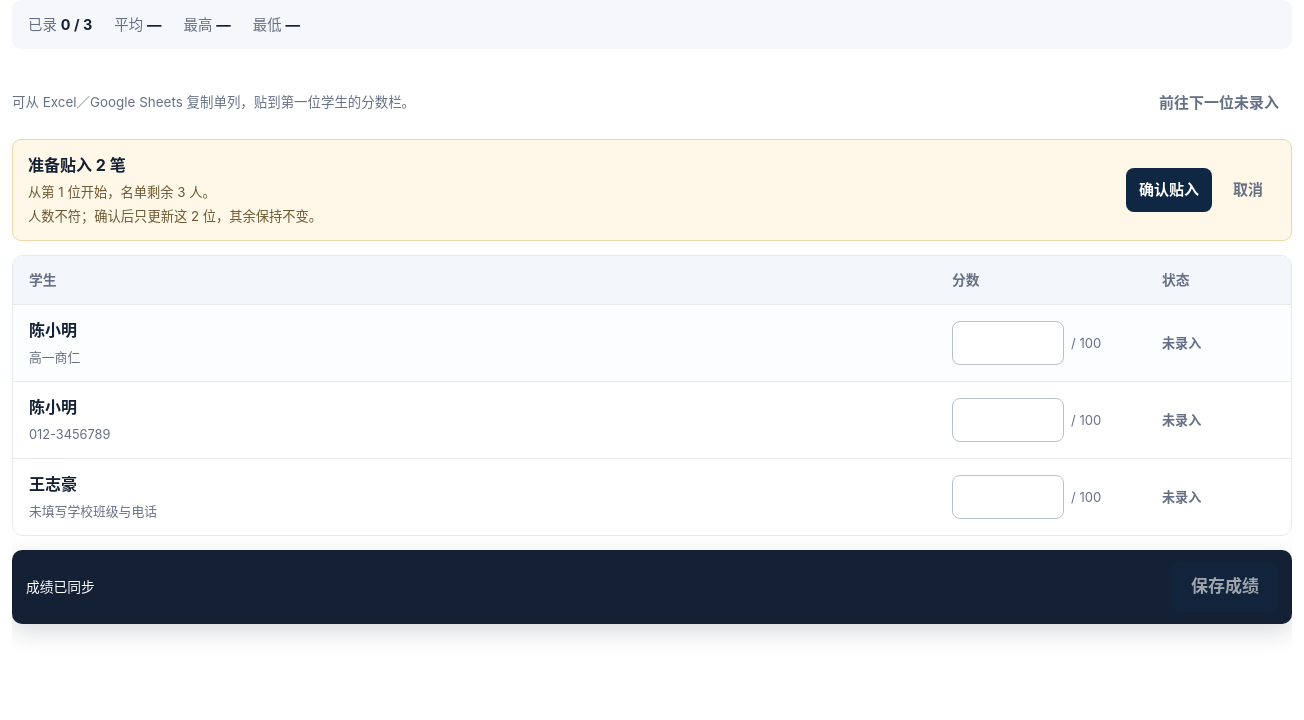
GradeEntryTable › fills a pasted column, keeps zero, moves down with Enter and saves once
The width and height of the screenshot is (1304, 720).
Check: the text "准备贴入 2 笔" is shown, box [28, 155, 126, 175]
Check: the text "人数不符；确认后只更新这 2 位，其余保持不变。" is shown, box [28, 206, 322, 227]
Step 1. Click the button "确认贴入" → point(1169, 190), box [1126, 168, 1212, 212]
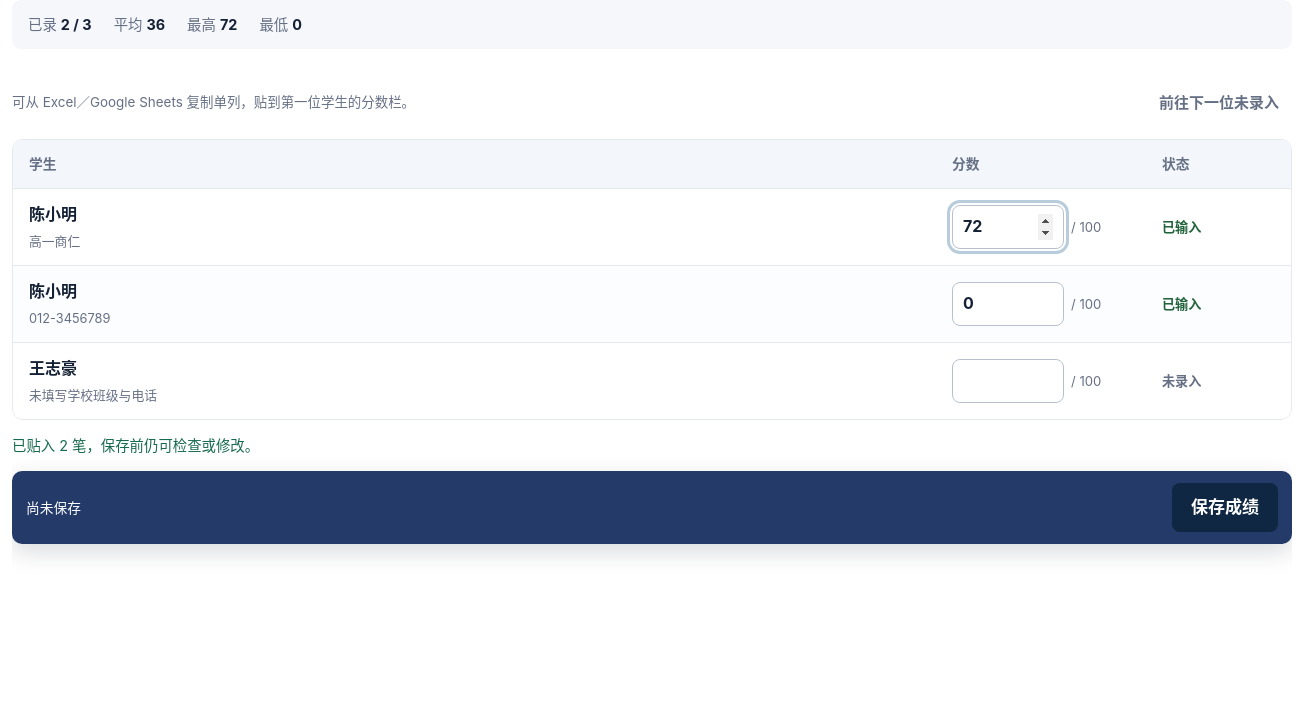
Check: the number field labelled "/ 100" in the row of "王志豪" is not empty, box [952, 359, 1064, 403]
Check: the number field labelled "/ 100" in the row of "高一商仁" holds "72"
Check: the number field labelled "/ 100" in the row of "012-3456789" holds "0", box [952, 282, 1064, 326]
Step 2. Press Enter in the number field labelled "/ 100" in the row of "高一商仁", box [952, 205, 1064, 249]
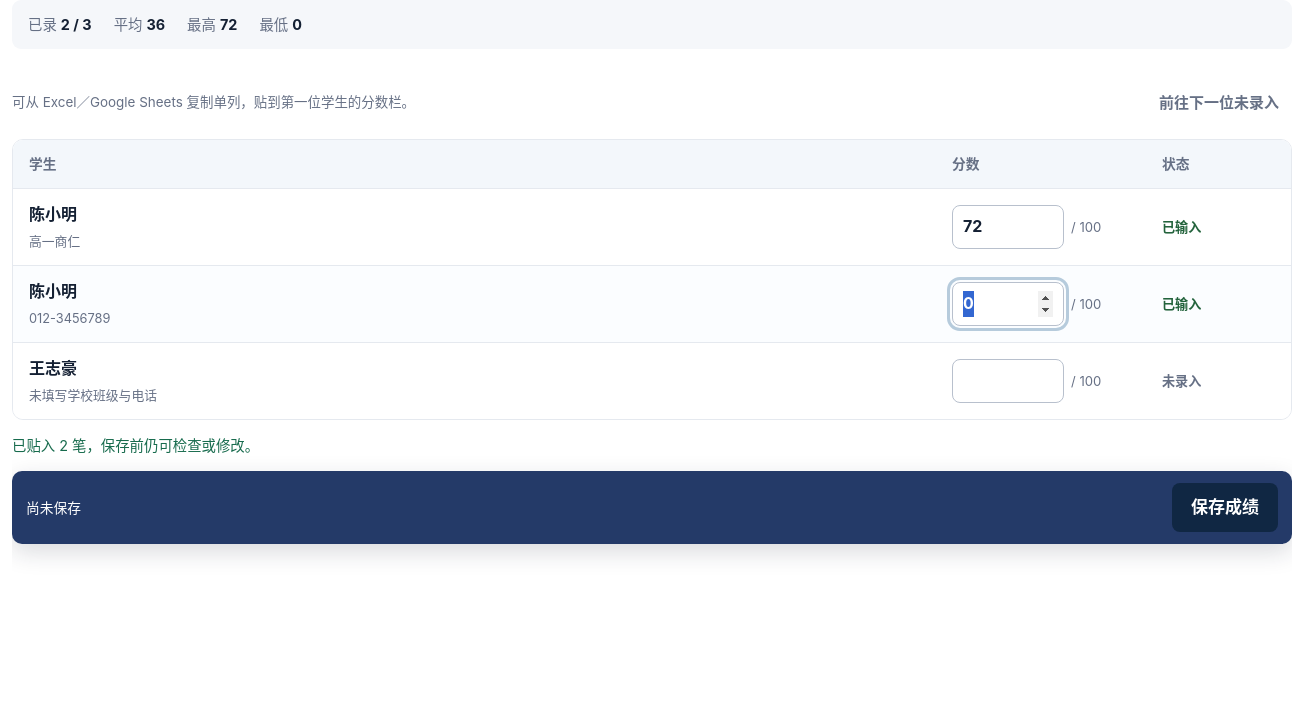
Step 3. Click the button "保存成绩" → point(1225, 508), box [1172, 483, 1278, 532]
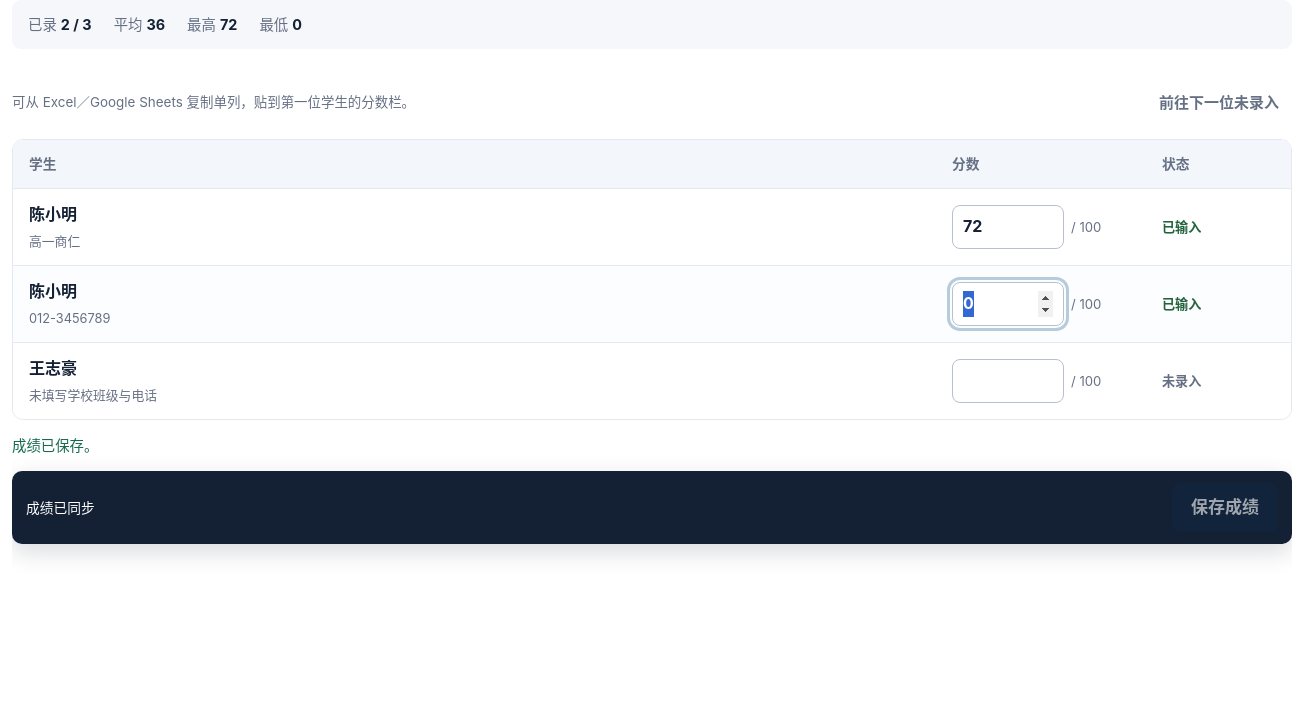
Check: the text "成绩已保存。" is shown, box [12, 437, 98, 454]
